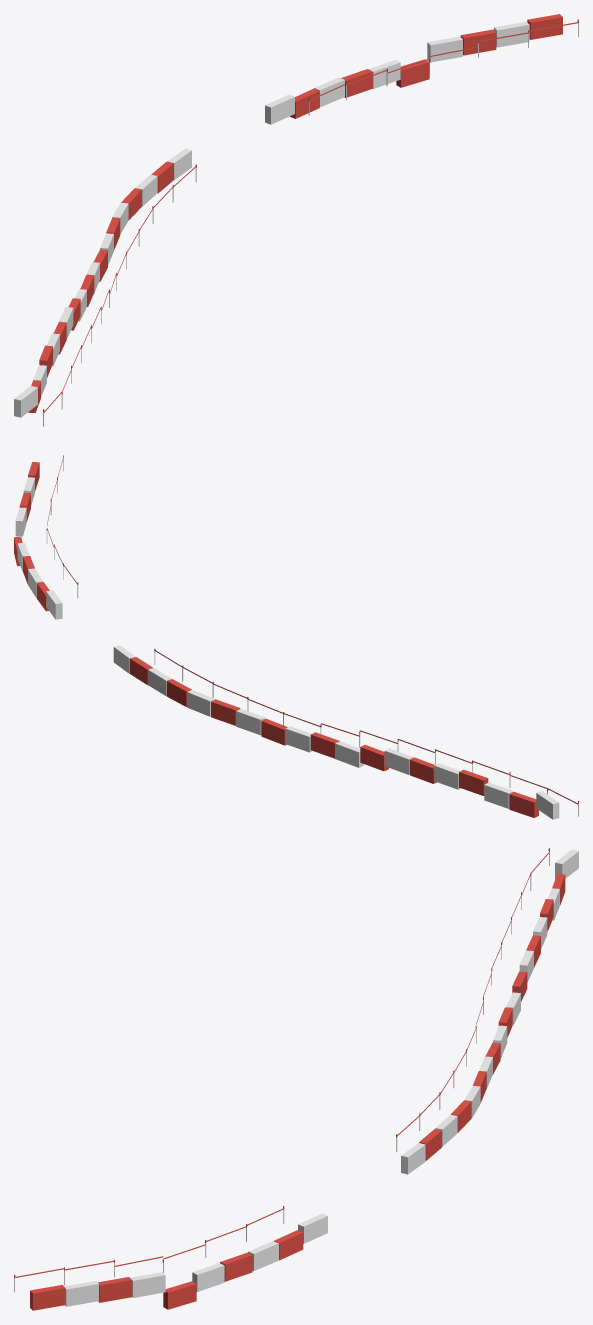
File: balisage.glb
3 renders of one model, top to bottom at view 1: azimuth 90°, elevation 25°; view 2: azimuth 150°, elevation 25°; view 3: azimuth 270°, elevation 25°, orthographic. The views are drawn at different scales.
Parts seen in each view (by area): view 1: balisage_lion_d_or_barriere_blanche, balisage_lion_d_or_barriere_rouge, balisage_lion_d_or_rubalise; view 2: balisage_lion_d_or_barriere_blanche, balisage_lion_d_or_barriere_rouge, balisage_lion_d_or_rubalise; view 3: balisage_lion_d_or_barriere_blanche, balisage_lion_d_or_barriere_rouge, balisage_lion_d_or_rubalise.
Boxes of the visible parts, box(x1,y1,x2,y2) form: balisage_lion_d_or_barriere_blanche: box(14, 21, 529, 417); balisage_lion_d_or_barriere_rouge: box(28, 14, 562, 412); balisage_lion_d_or_rubalise: box(44, 22, 577, 412); balisage_lion_d_or_barriere_blanche: box(15, 477, 559, 819); balisage_lion_d_or_barriere_rouge: box(14, 462, 538, 817); balisage_lion_d_or_rubalise: box(47, 458, 577, 804); balisage_lion_d_or_barriere_blanche: box(64, 849, 578, 1306); balisage_lion_d_or_barriere_rouge: box(30, 874, 565, 1310); balisage_lion_d_or_rubalise: box(15, 852, 549, 1277).
Size of the model in its own units: 55.09 by 4.16 by 31.28.
